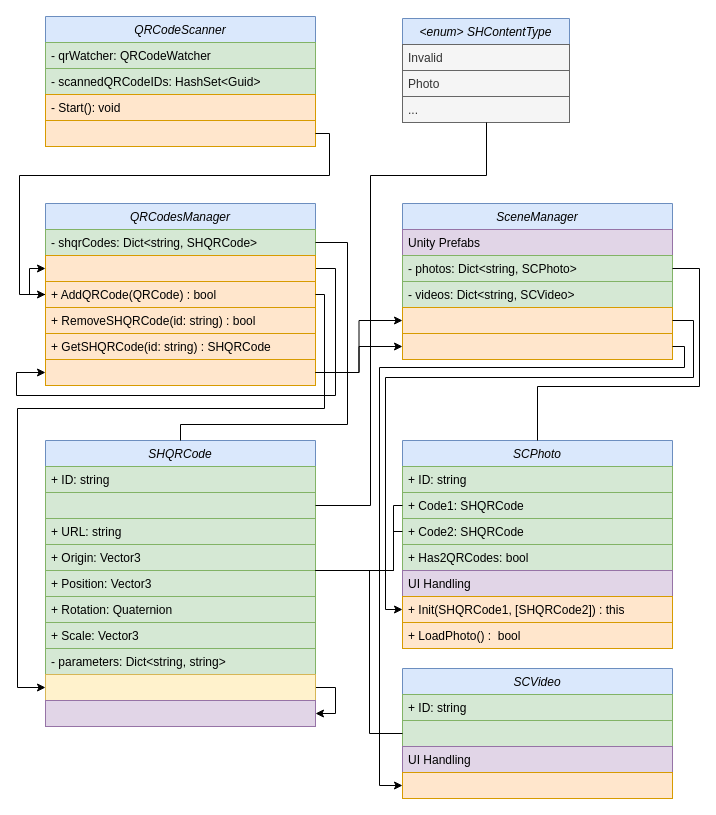
The diagram is 716 pixels wide and 815 high, and some of its shapes have lost their labels. The centre of each missing label's shape, as x and y in pixels:
"+ AddPhoto(SHQRCode1, [SHQRCode2]) : bool" belongs at point 537,320.
"+ AddSHQRCode(SHQRCode) : bool" belongs at point 180,268.
"+ AddVideo(SHQRCode) : bool" belongs at point 537,346.
"+ Code: SHQRCode" belongs at point 537,733.
"+ constructor(QRCode)" belongs at point 180,687.
"+ Init(SHQRCode) : this" belongs at point 537,785.
"+ Type: SHContentType" belongs at point 180,505.
"- QRCodeUpdated(EventArgs): void" belongs at point 180,133.
"- SHQRCodePostProcessing(SHQRCode) : void" belongs at point 180,372.
"JSON parsing process (omitted)" belongs at point 180,713.
